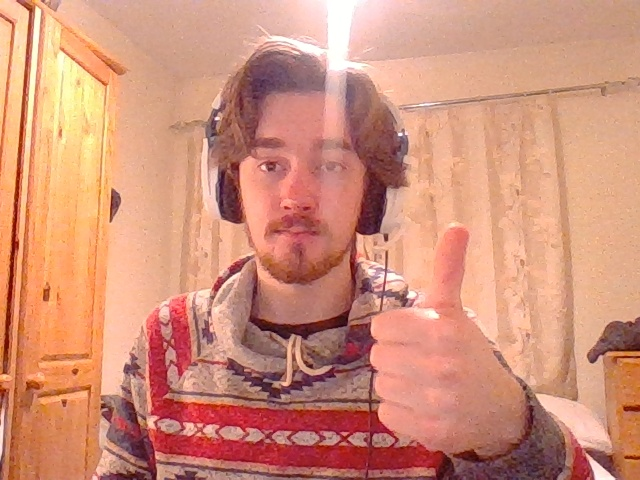good: (369, 222, 524, 446)
